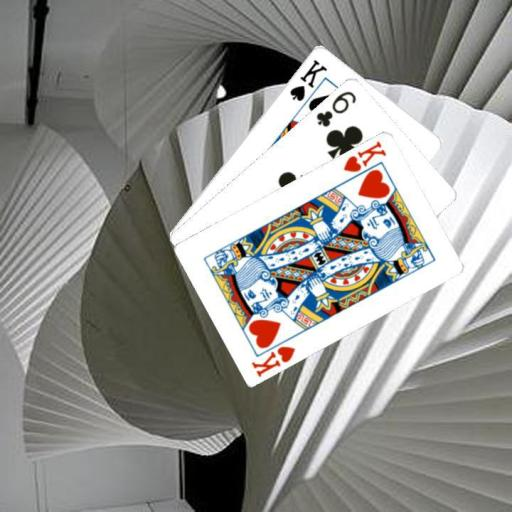6C: (313, 87, 358, 128)
KH: (340, 137, 388, 174), (248, 342, 297, 378)
KS: (286, 56, 328, 103)
